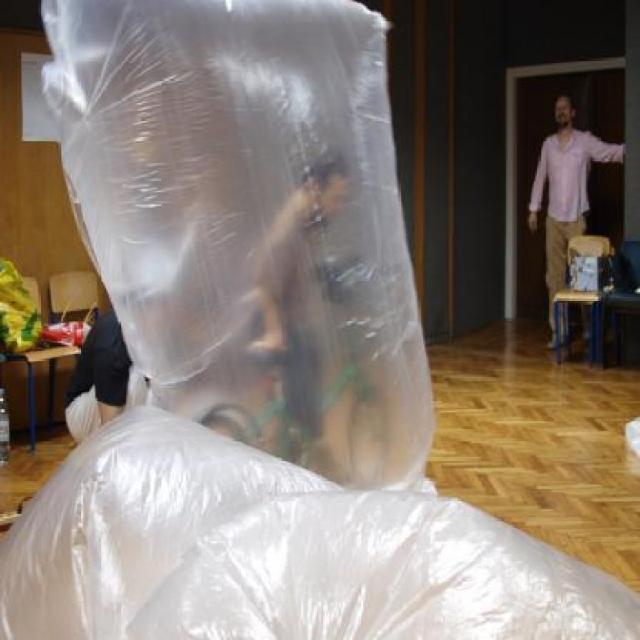plastic bag: (0, 0, 638, 638), (0, 255, 46, 358), (42, 320, 89, 348)
